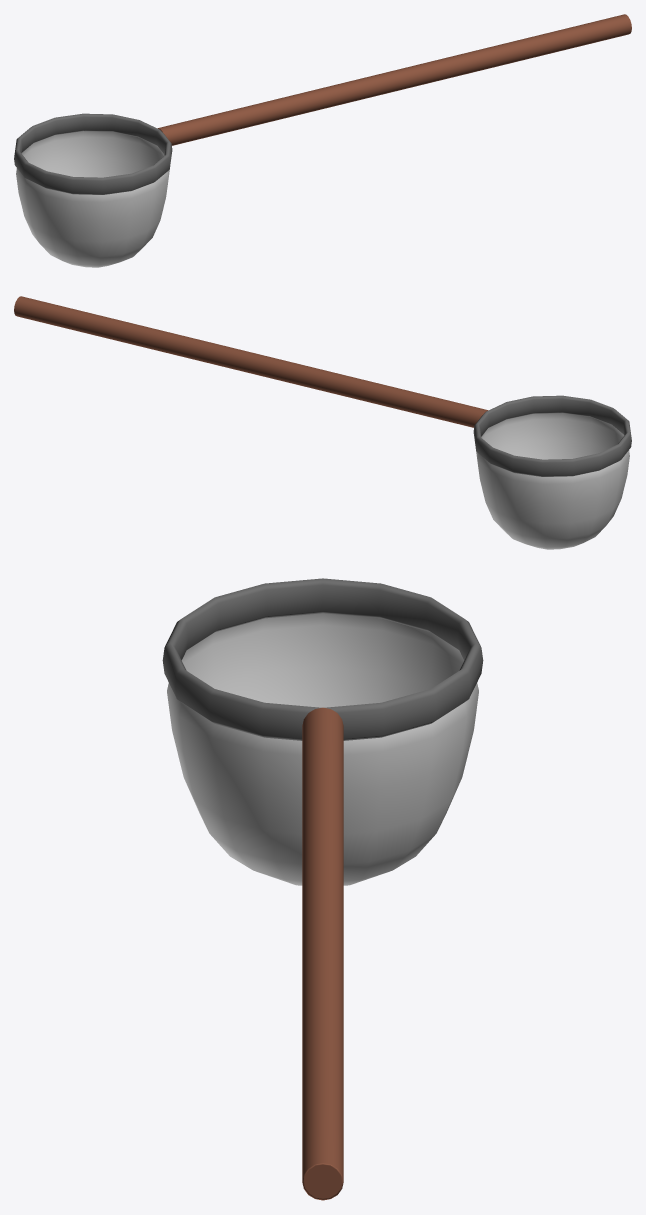
File: net_prototype.fbx
3 renders of one model, top to bottom at view 1: azimuth 30°, elevation 25°; view 2: azimuth 150°, elevation 25°; view 3: azimuth 270°, elevation 25°, orthographic. The views are drawn at different scales.
Visible parts, largest first — view 1: net_net, net_rod, net_hoop, net_net_reverse; view 2: net_net, net_rod, net_hoop, net_net_reverse; view 3: net_net, net_hoop, net_rod, net_net_reverse.
Part boxes in pixels (bbox=[...]): net_net: bbox=[16, 131, 169, 267]; net_rod: bbox=[157, 14, 631, 145]; net_hoop: bbox=[14, 113, 172, 194]; net_net_reverse: bbox=[16, 131, 169, 266]; net_net: bbox=[476, 413, 629, 549]; net_rod: bbox=[14, 296, 488, 427]; net_hoop: bbox=[473, 395, 631, 476]; net_net_reverse: bbox=[477, 413, 629, 548]; net_net: bbox=[167, 613, 478, 885]; net_hoop: bbox=[162, 578, 483, 740]; net_rod: bbox=[302, 707, 343, 1200]; net_net_reverse: bbox=[168, 614, 477, 885].
Size of the model in its own units: 31.02 by 5.76 by 7.14.
